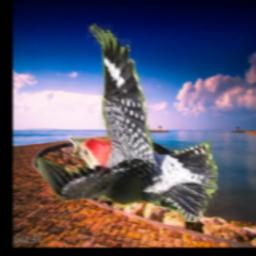Woodpecker: (36, 23, 218, 222)
